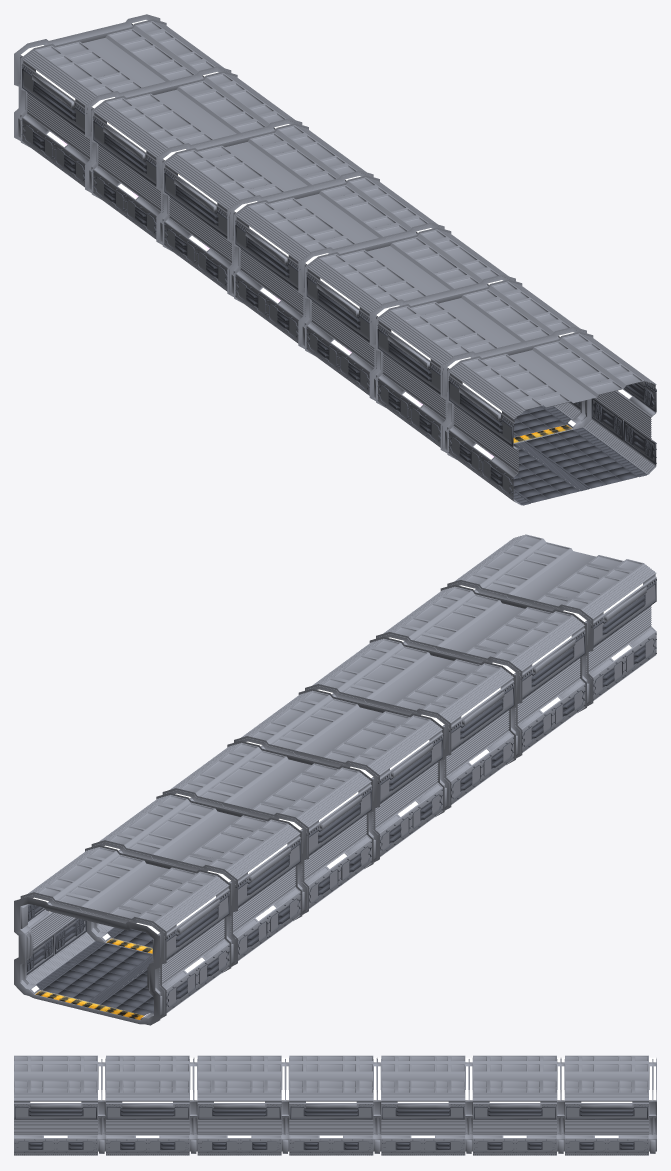
The model's file is corridor.glb.
3 renders of one model, top to bottom at view 1: azimuth 30°, elevation 25°; view 2: azimuth 150°, elevation 25°; view 3: azimuth 270°, elevation 25°, orthographic. The views are drawn at different scales.
Visible parts, largest first — view 1: Sci Fi Corridor; view 2: Sci Fi Corridor; view 3: Sci Fi Corridor.
Part boxes in pixels (bbox=[...]): Sci Fi Corridor: bbox=[14, 14, 656, 505]; Sci Fi Corridor: bbox=[14, 534, 656, 1025]; Sci Fi Corridor: bbox=[14, 1055, 656, 1155].
Size of the model in its own units: 1318 by 848 by 7667.
Materials: 5 (1 with a texture image).
